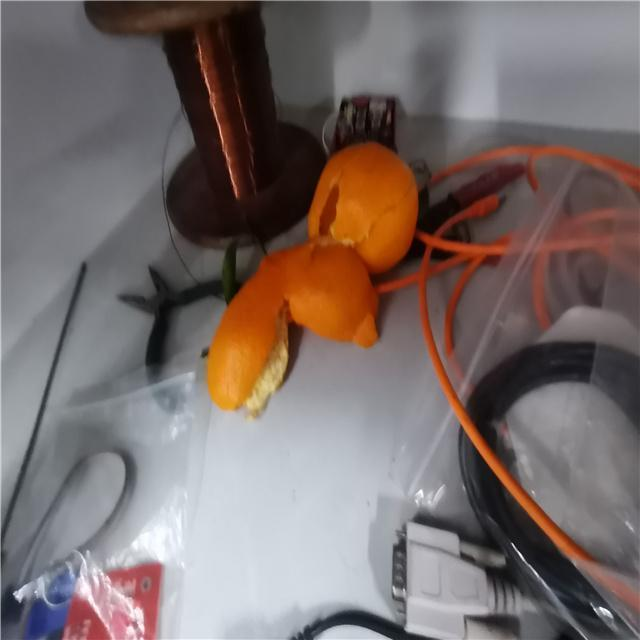orange peel: (207, 246, 385, 419), (310, 140, 421, 274)
